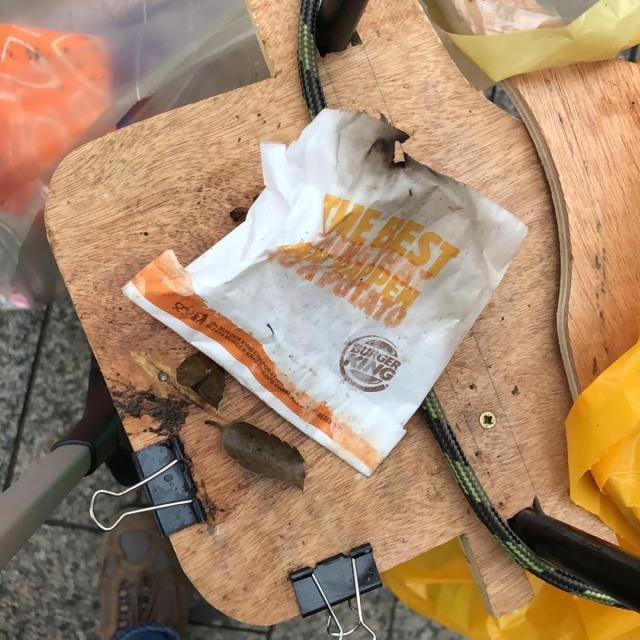Paper: (115, 103, 532, 481)
